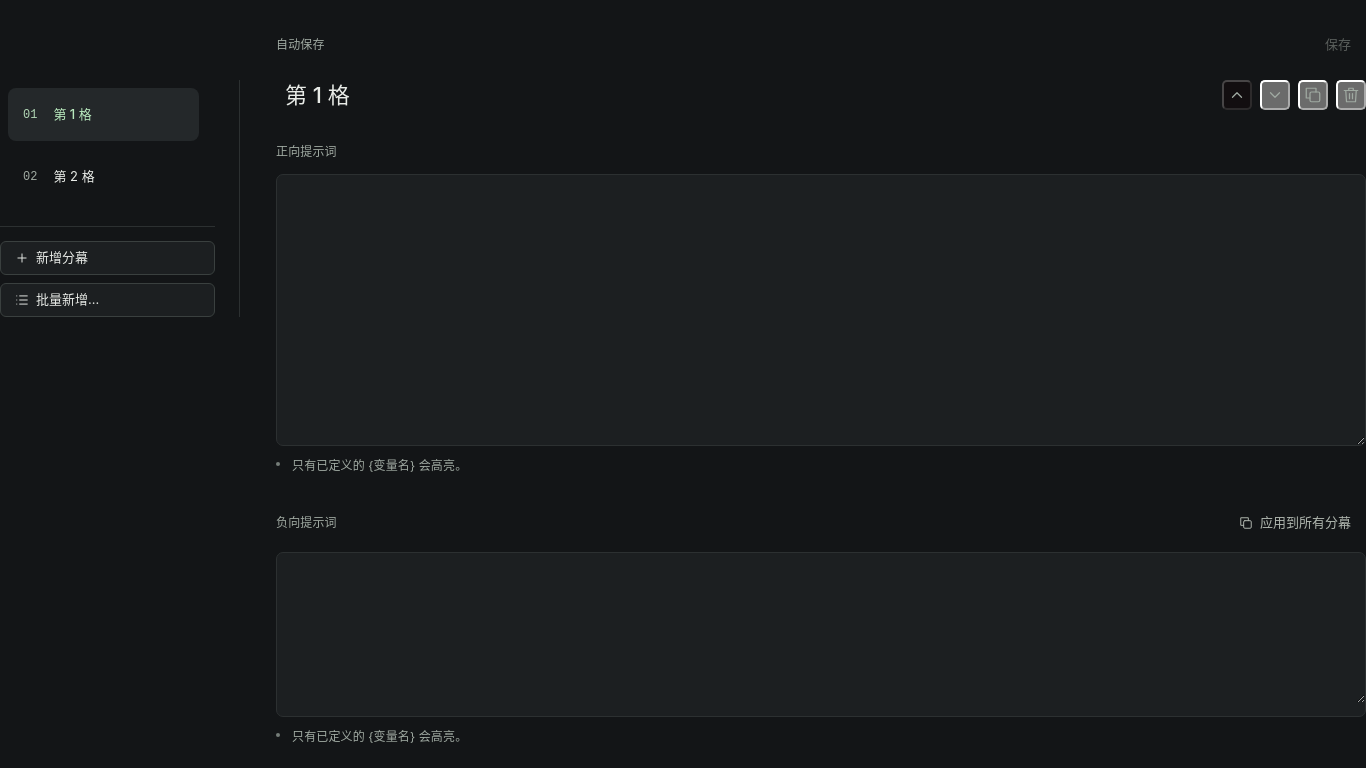
it: adding frames (legacy workshop-add-frame / batchFramesModal) › refuses a count beyond the frames left
The image size is (1366, 768).
Click the button "批量新增…". click: (108, 300)
box: [0,283,215,317]
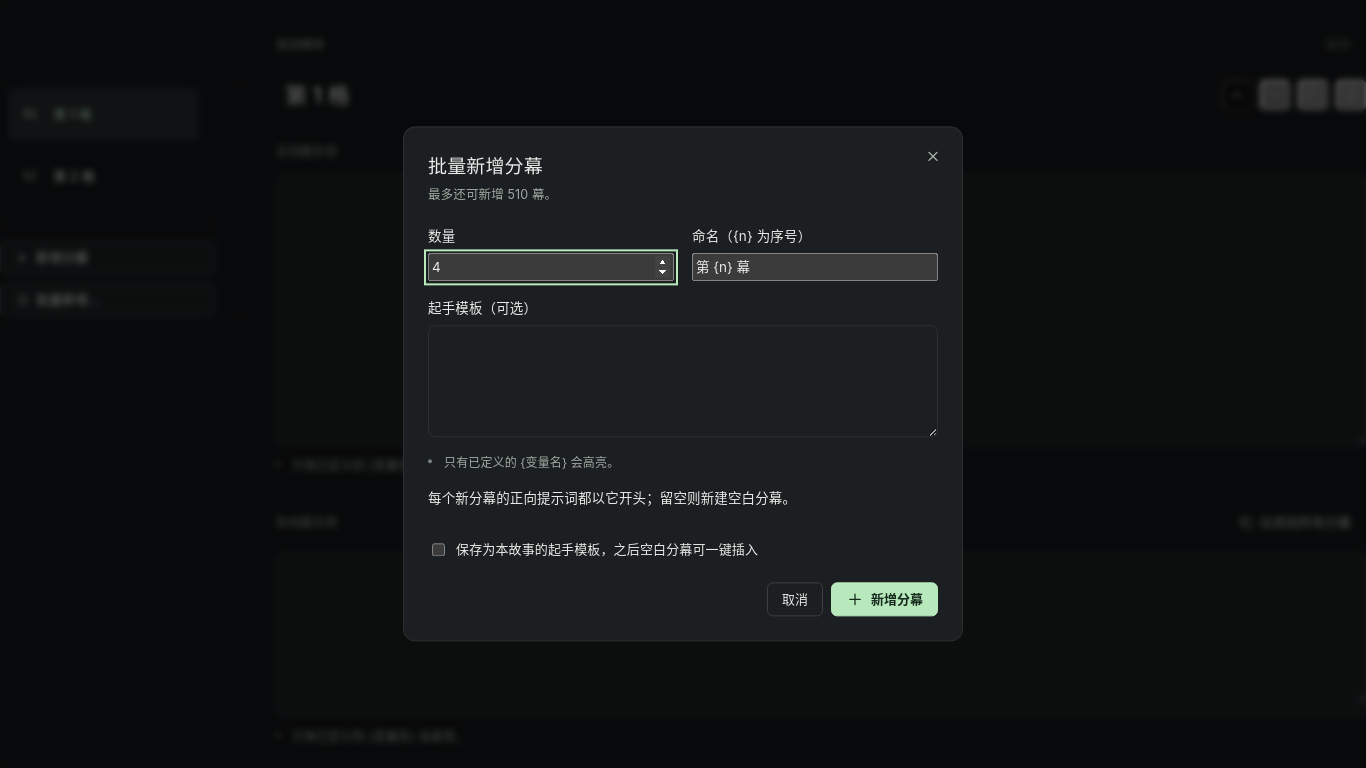
Replace the text in the number field with id "batch-frames-count" with "600". click: (551, 267)
box: [428,253,674,281]
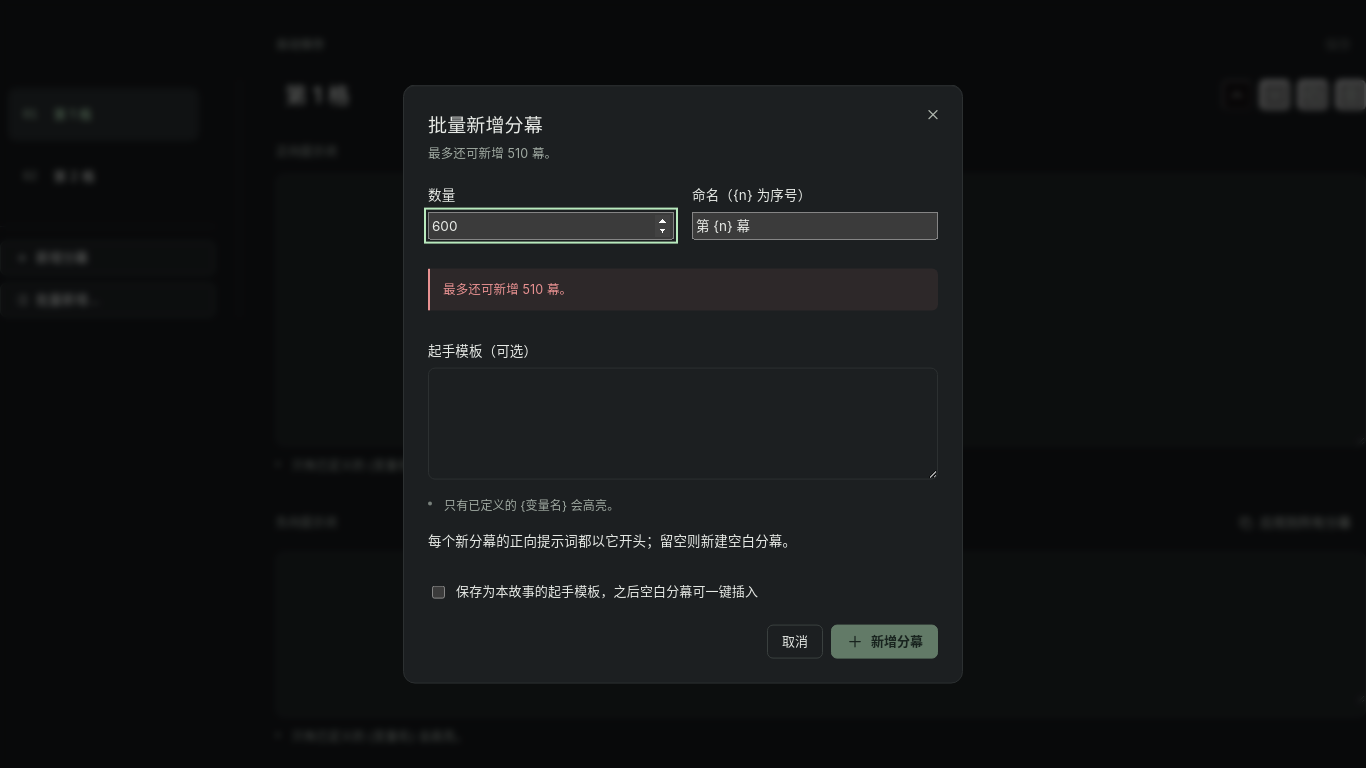
Now the message reads "最多还可新增 510 幕。", box [443,281,572,296]
Now the button "新增分幕" is disabled, box [831,624,938,658]
